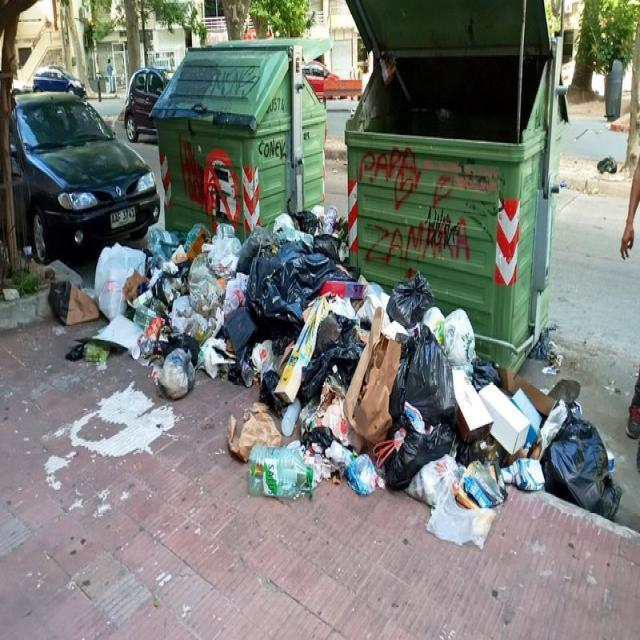high trash: (69, 215, 621, 546)
